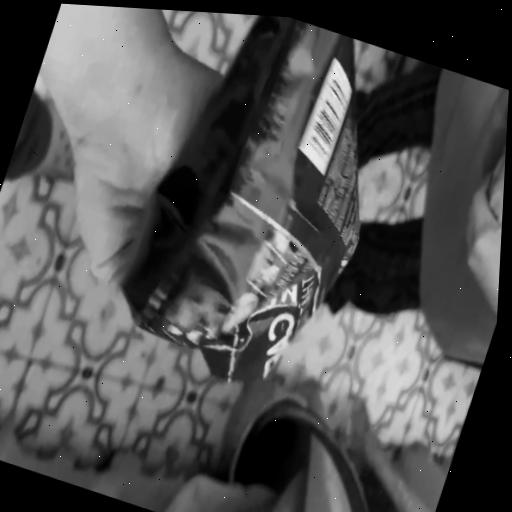cafe_hat: (123, 15, 359, 380)
